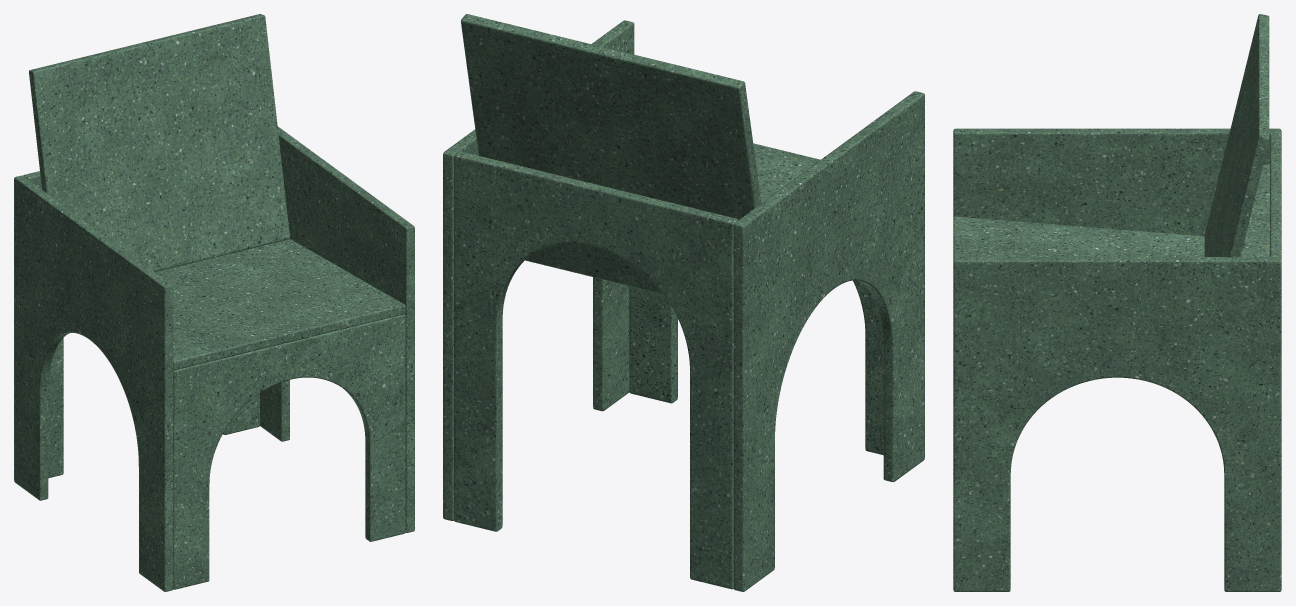
File: free_3d_model_002_-_chair.glb
3 views of the same model, side by side, from view 1: azimuth 30°, elevation 25°; view 2: azimuth 150°, elevation 25°; view 3: azimuth 270°, elevation 25° (orthographic). The views are drawn at different scales.
Visible parts, largest first — view 1: 3dfurnituregallery_free_3d_model_002_plastic_green_55x57x87_; view 2: 3dfurnituregallery_free_3d_model_002_plastic_green_55x57x87_; view 3: 3dfurnituregallery_free_3d_model_002_plastic_green_55x57x87_.
Boxes of the visible parts, bbox=[...] form: 3dfurnituregallery_free_3d_model_002_plastic_green_55x57x87_: bbox=[14, 14, 414, 591]; 3dfurnituregallery_free_3d_model_002_plastic_green_55x57x87_: bbox=[443, 14, 924, 591]; 3dfurnituregallery_free_3d_model_002_plastic_green_55x57x87_: bbox=[953, 14, 1281, 591].
Bounding box in the file's own units: 0.55 × 0.8709 × 0.574.
1 material, 1 textured.
